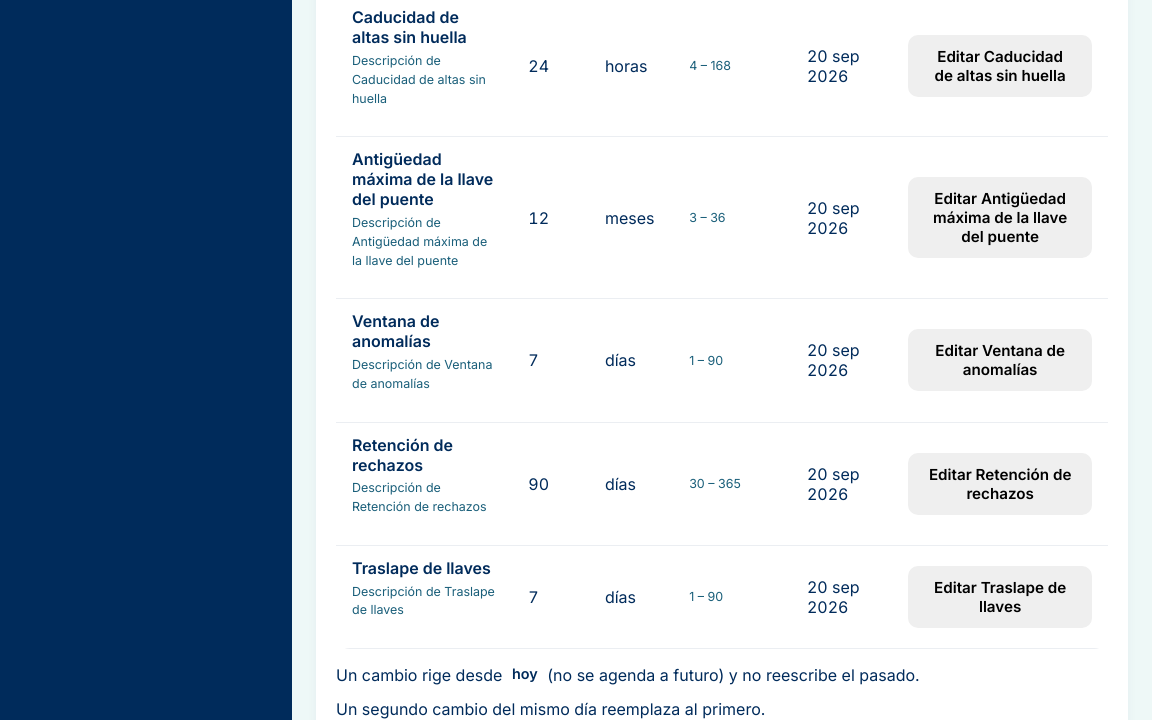
VariablesTerminalesPage › edición › guarda con valor y valor_base ENTEROS, avisa y recarga
(page scrolled)
Click the button "Editar Ventana de anomalías" at [1000, 360], box x1=908 y1=329 x2=1092 y2=391
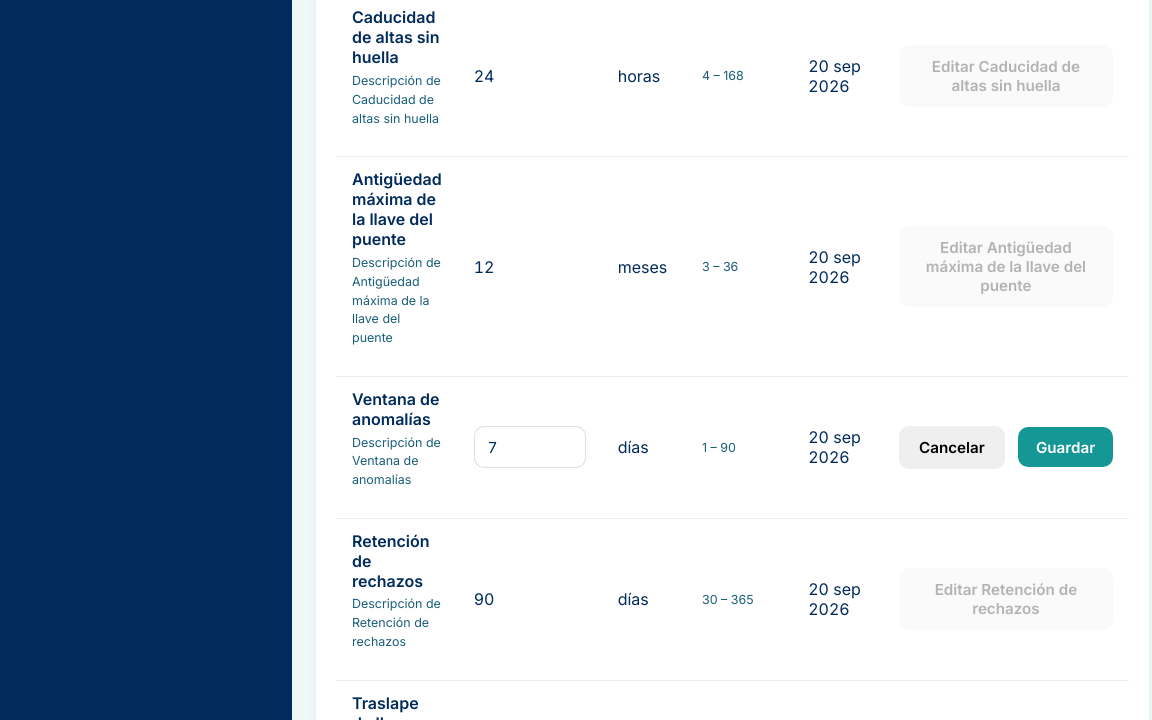
Replace the text in the number field with "14" at [530, 447], box x1=474 y1=426 x2=586 y2=468
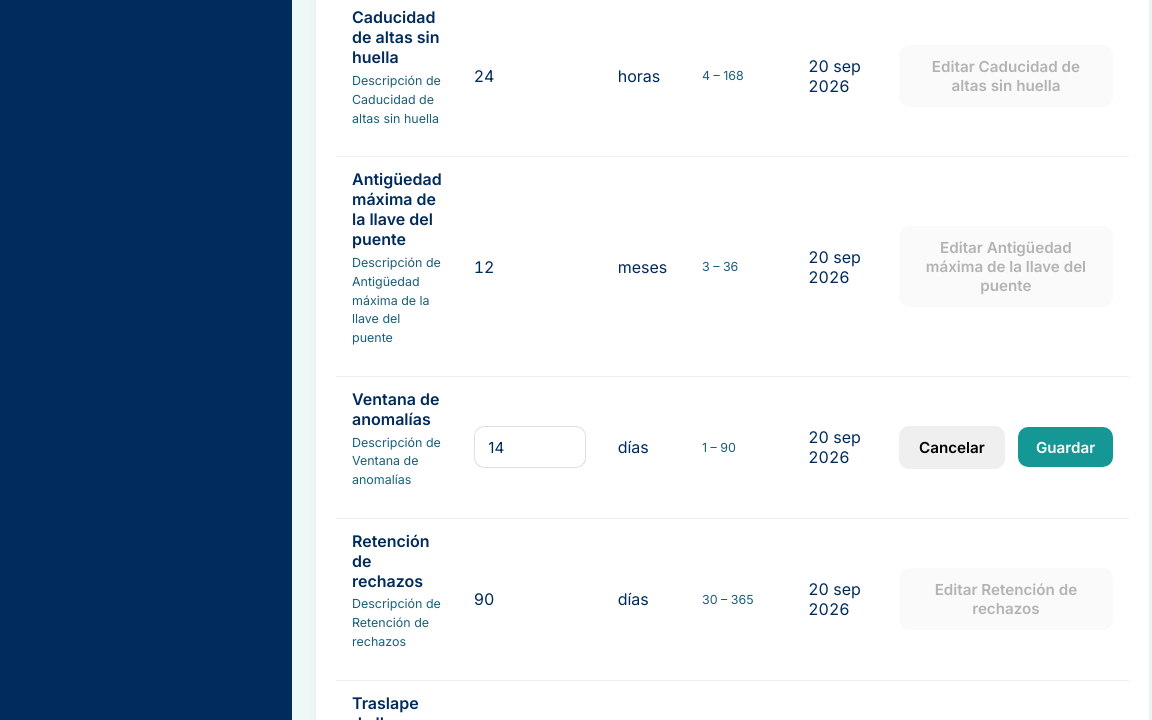
Click the button "Guardar" at [1066, 447], box x1=1018 y1=427 x2=1113 y2=467
(page scrolled)
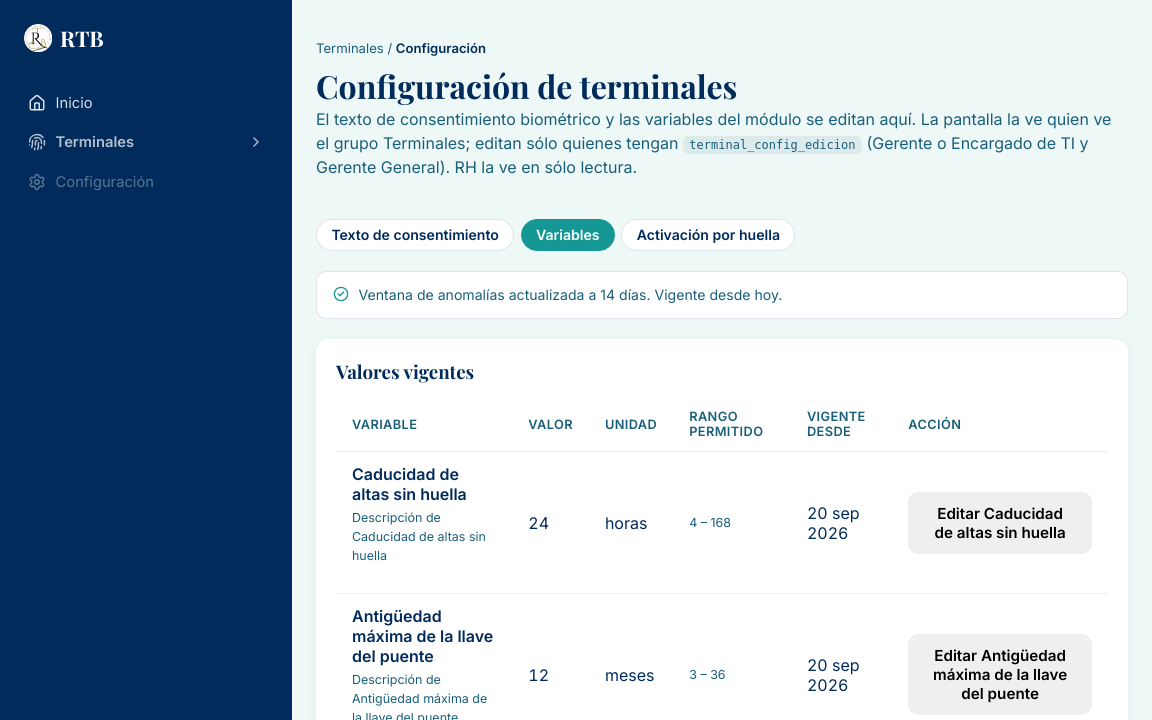
Check: the text "Ventana de anomalías actualizada a 14 días" is shown, box x1=359 y1=286 x2=782 y2=303
